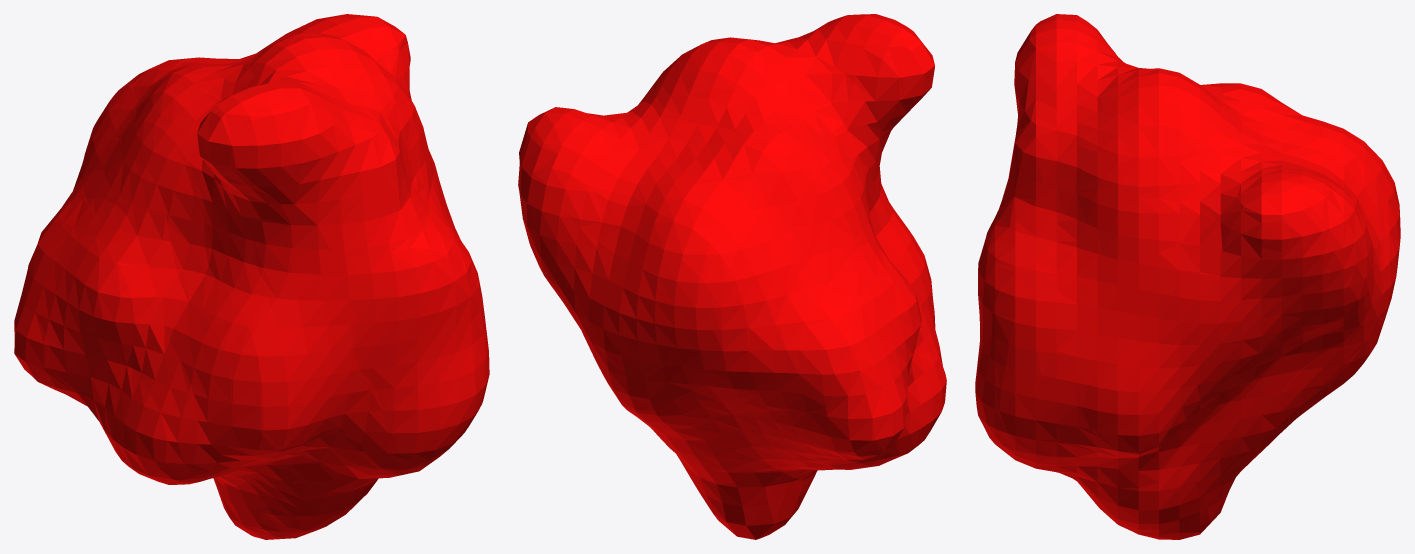
File: ydiE_coarse.dae
3 views of the same model, side by side, from view 1: azimuth 30°, elevation 25°; view 2: azimuth 150°, elevation 25°; view 3: azimuth 270°, elevation 25° (orthographic). The views are drawn at different scales.
Visible parts, largest first — view 1: ydiE; view 2: ydiE; view 3: ydiE.
Boxes of the visible parts, box(x1,y1,x2,y2) form: ydiE: box(14, 14, 489, 539); ydiE: box(518, 14, 946, 539); ydiE: box(975, 14, 1400, 539).
Size of the model in its own units: 32.29 by 40.52 by 32.34.
